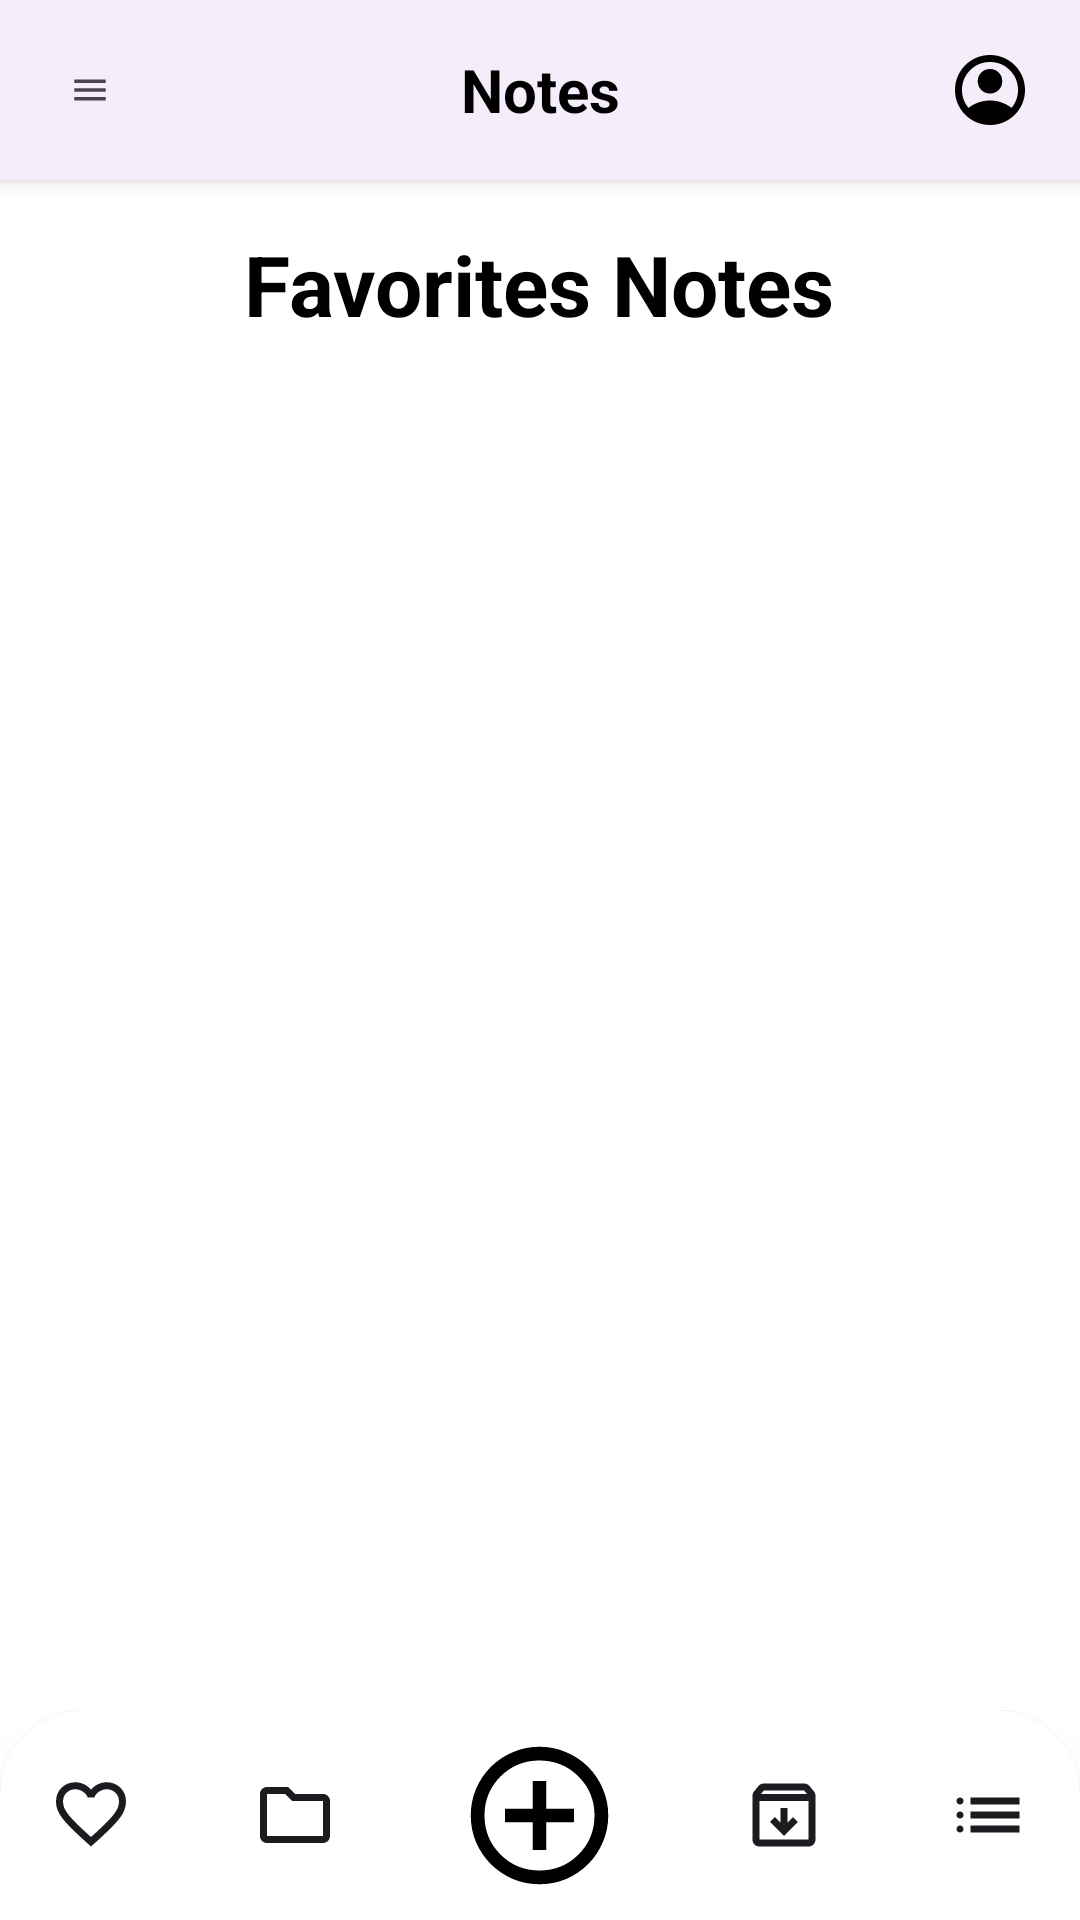

Icons on this 1080 x 1920 Android screen, each with its box as {"left": x1, "top": y1, "right": x2, "bottom": y2}:
account circle: {"left": 955, "top": 55, "right": 1025, "bottom": 125}
add circle: {"left": 470, "top": 1746, "right": 609, "bottom": 1885}
archive: {"left": 752, "top": 1783, "right": 816, "bottom": 1847}
favorite: {"left": 56, "top": 1782, "right": 126, "bottom": 1847}
folder: {"left": 260, "top": 1787, "right": 330, "bottom": 1843}
list: {"left": 956, "top": 1797, "right": 1020, "bottom": 1833}
